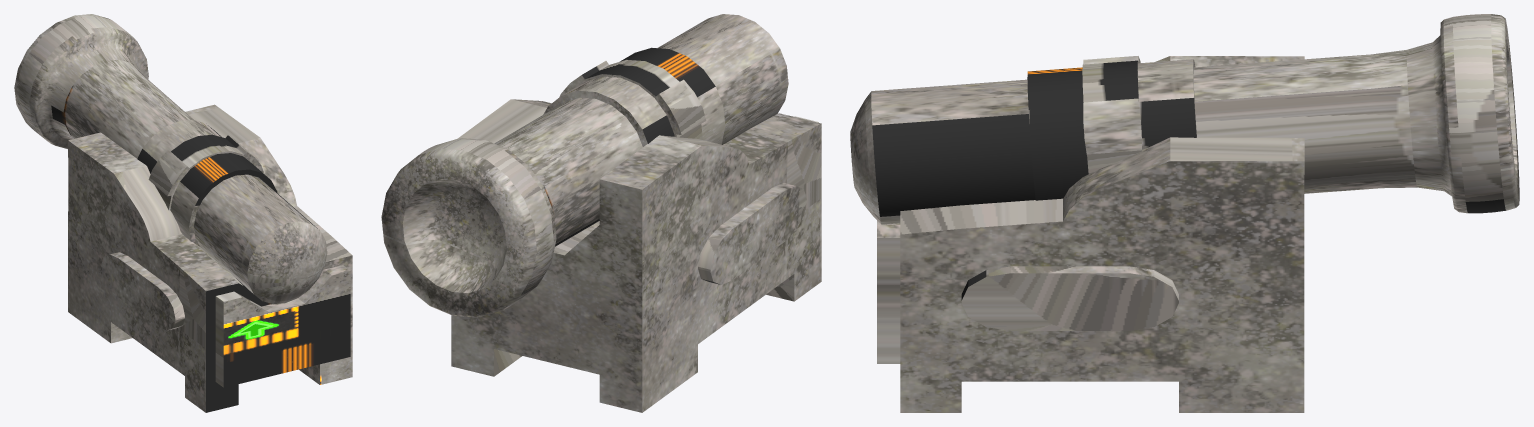
File: cañon tier 1.fbx
The picture shows the model from 3 angles, left to right: view 1: azimuth 30°, elevation 25°; view 2: azimuth 150°, elevation 25°; view 3: azimuth 270°, elevation 25°; orthographic projection. The views are drawn at different scales.
Visible parts, largest first — view 1: Cube.115, Cylinder.055; view 2: Cube.115, Cylinder.055; view 3: Cube.115, Cylinder.055.
Boxes of the visible parts, <box> form: Cube.115: <box>68,104,352,412</box>; Cylinder.055: <box>14,14,327,303</box>; Cube.115: <box>451,99,821,412</box>; Cylinder.055: <box>381,14,788,317</box>; Cube.115: <box>877,56,1304,412</box>; Cylinder.055: <box>850,14,1519,224</box>.
Size of the model in its own units: 769 by 1021 by 1833.
